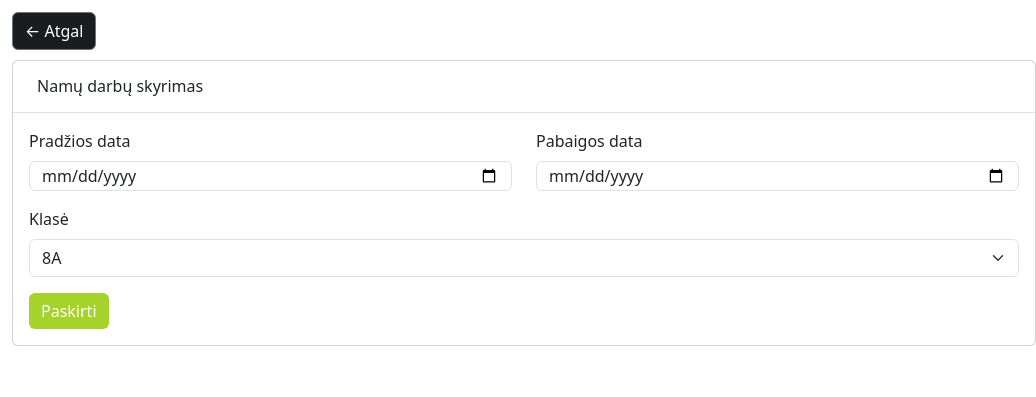
Test: AssignHomework component › displays success message for valid form data
The image size is (1036, 397).
In the date field labelled "Pradžios data": (270, 176) [29,161,512,191], type "2024-04-14"
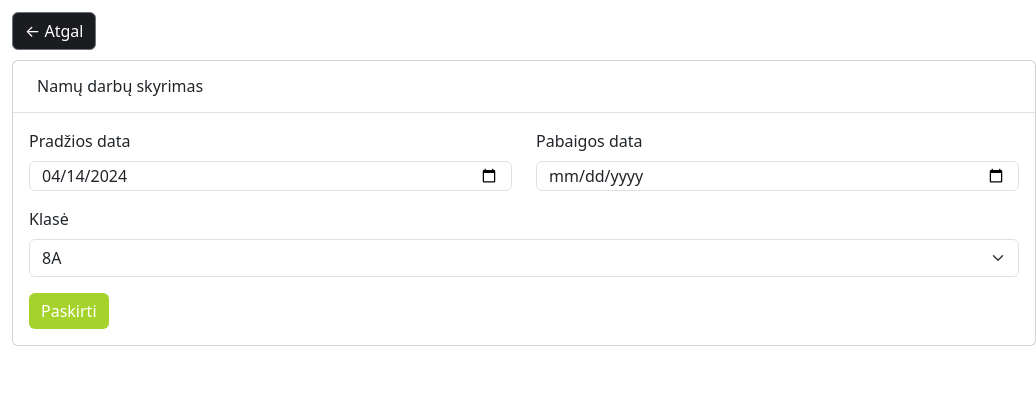
In the date field labelled "Pabaigos data": (778, 176) [536,161,1019,191], type "2024-04-28"
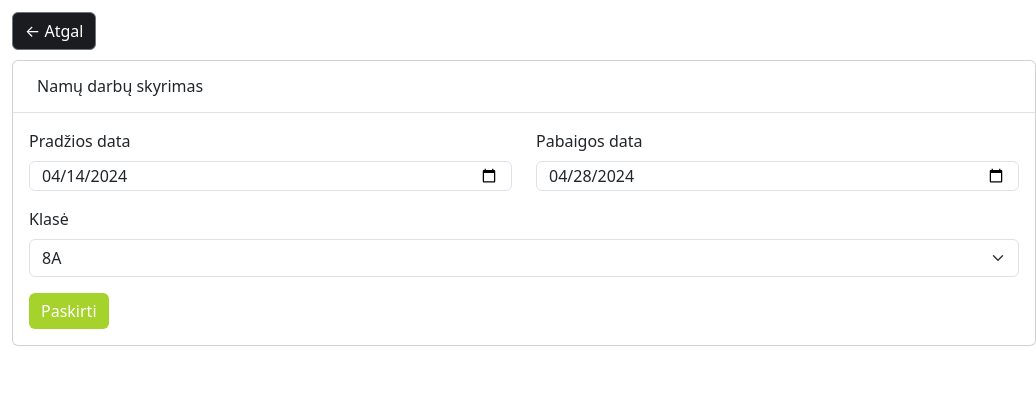
Select "8A" in the dropdown labelled "Klasė": (524, 258) [29,239,1019,277]
Click the button "Paskirti": (69, 311) [29,293,108,329]
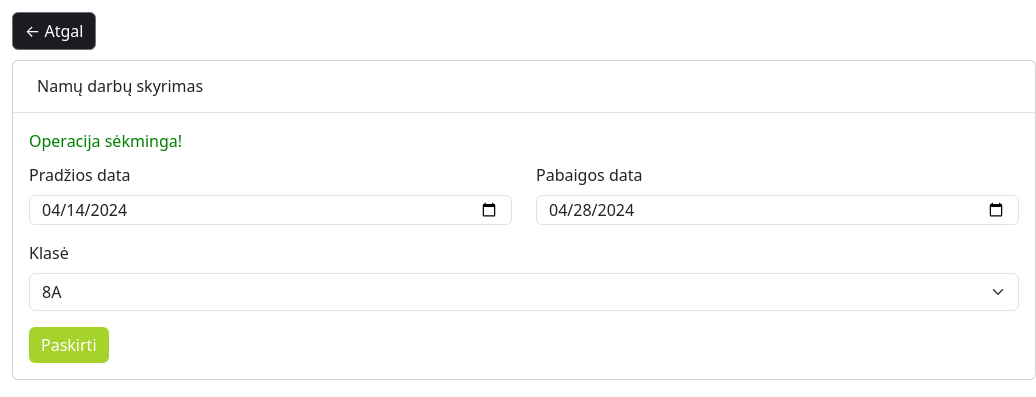
Expected: the text "Operacija sėkminga!" is shown, [29,130,182,152]
